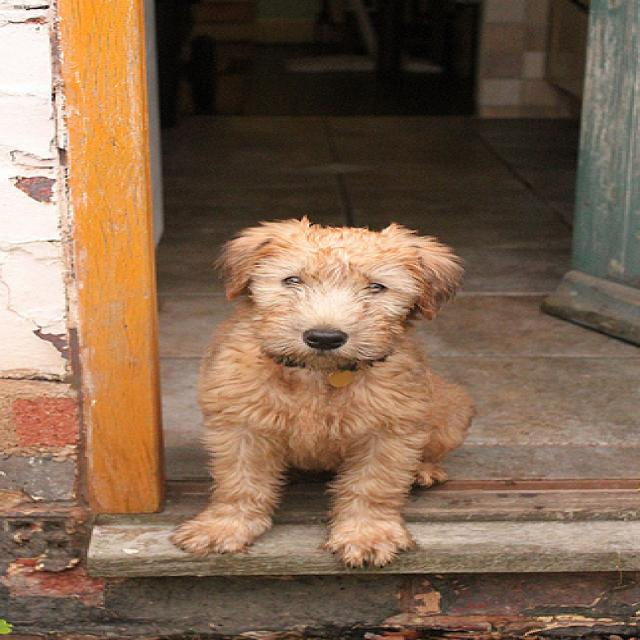dog-wheaten_terrier: (157, 212, 489, 584)
